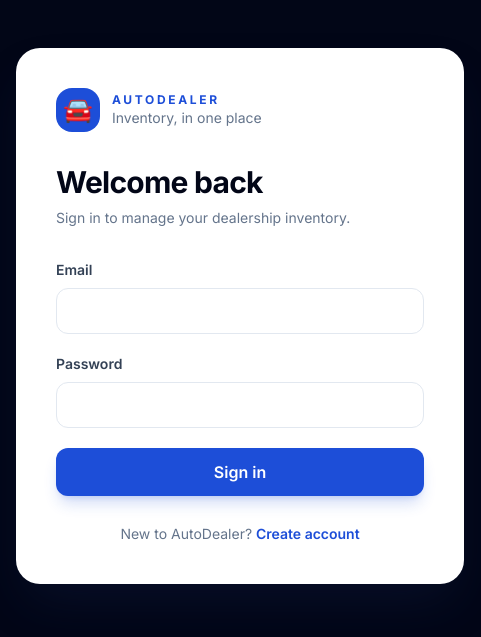
Test case: authentication forms › shows a backend error when sign in fails
Type "buyer@example.com" into the field labelled "Email" at (240, 311), box [56,288,424,334]
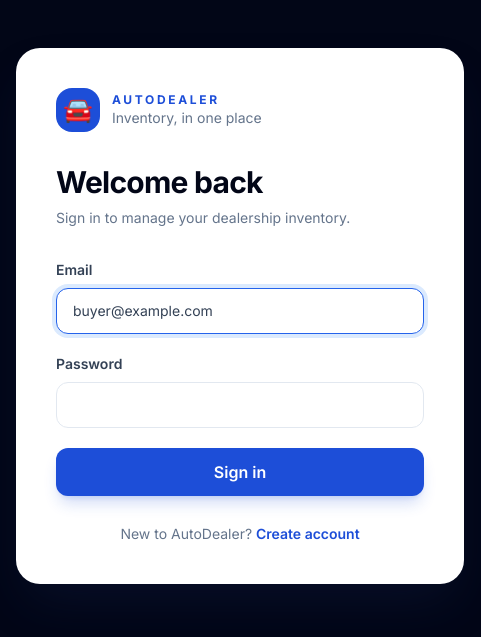
Type "wrong-password" into the password field labelled "Password" at (240, 405), box [56,382,424,428]
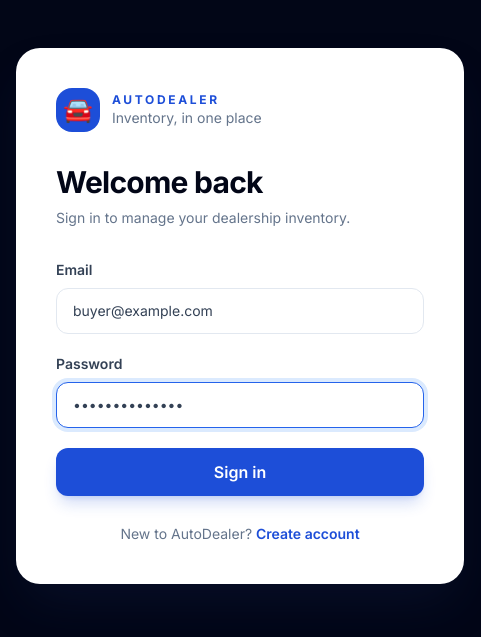
Click the button "Sign in" at (240, 472), box [56,448,424,496]
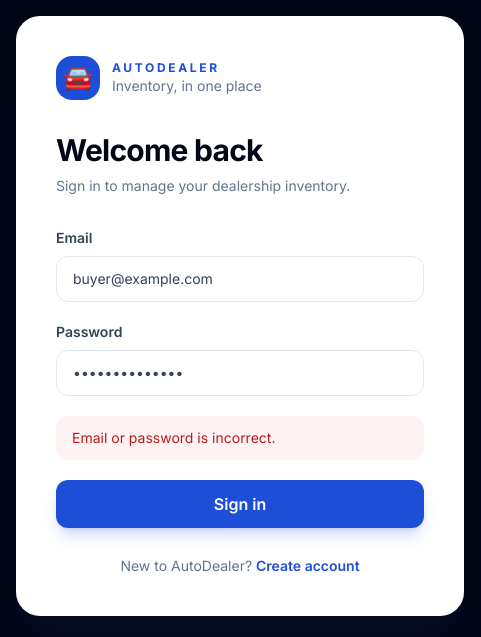
Check: the message reads "Email or password is incorrect.", box [72,429,275,446]
